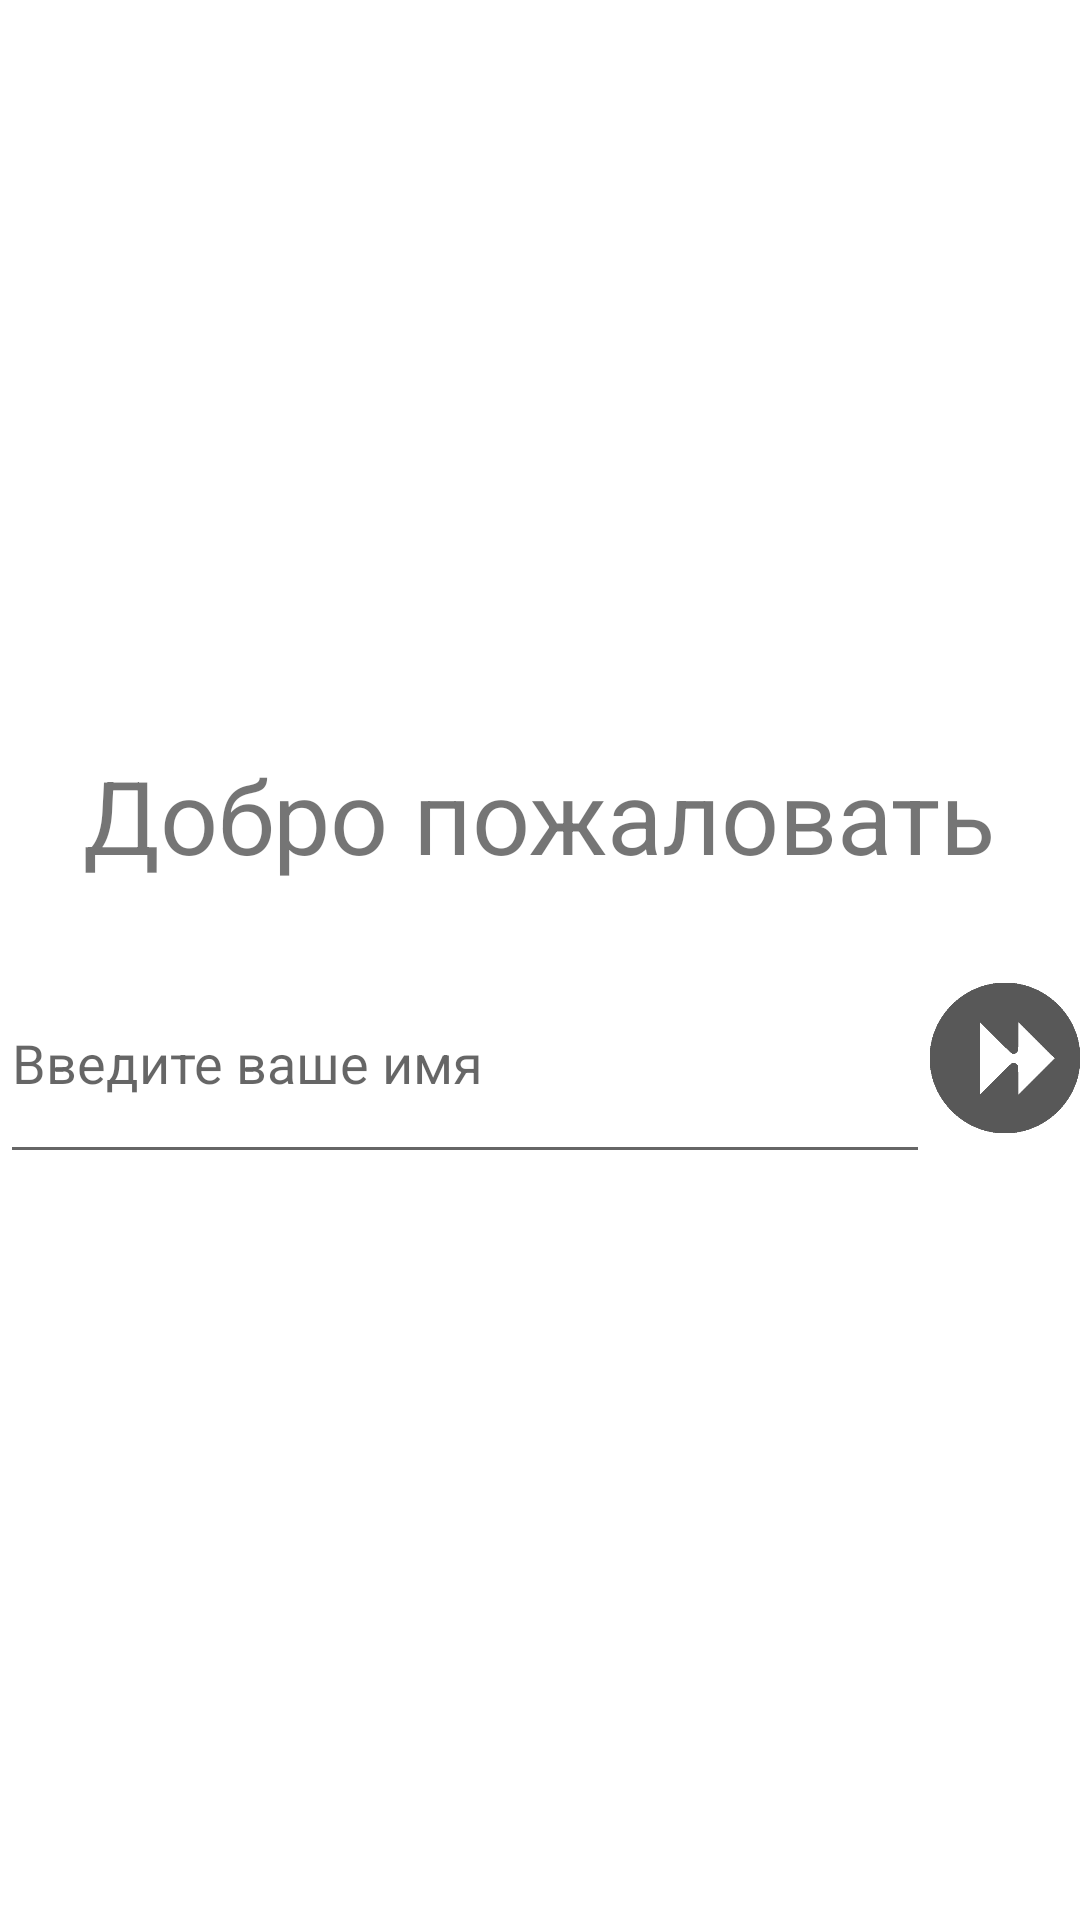

Named icons in this screenshot (1080x1920) and their bounding boxes, (x1, y1, x2, y2):
arrow: (930, 983, 1080, 1133)
